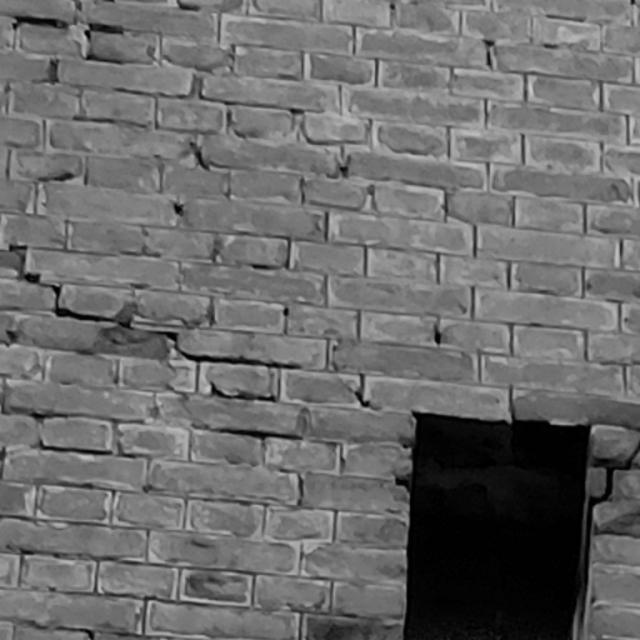crack: (7, 245, 300, 369), (589, 443, 639, 505)
